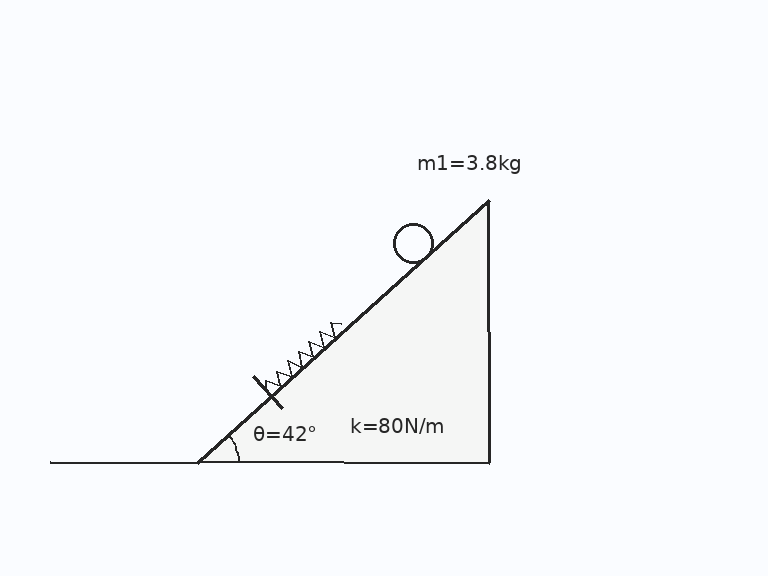ball: (391, 221, 435, 265)
ramp: (197, 199, 491, 464)
spring: (263, 320, 343, 392)
